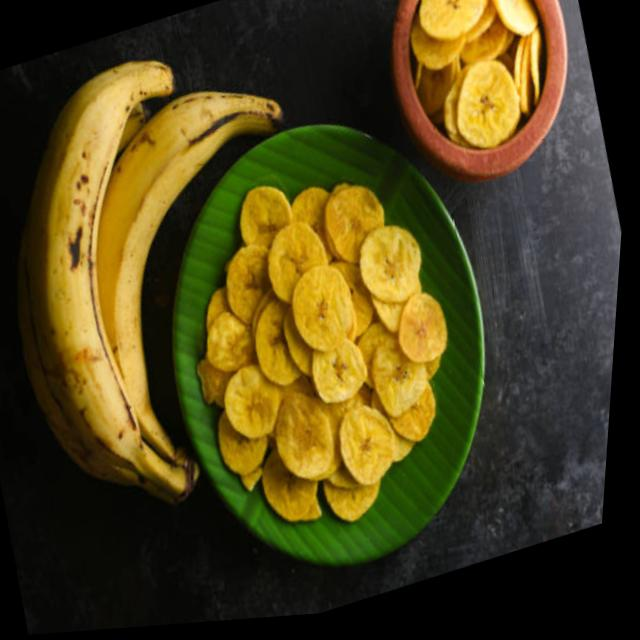BANANA: (5, 55, 285, 514)
BANANA CHIPS: (194, 181, 446, 522), (408, 0, 541, 151)
